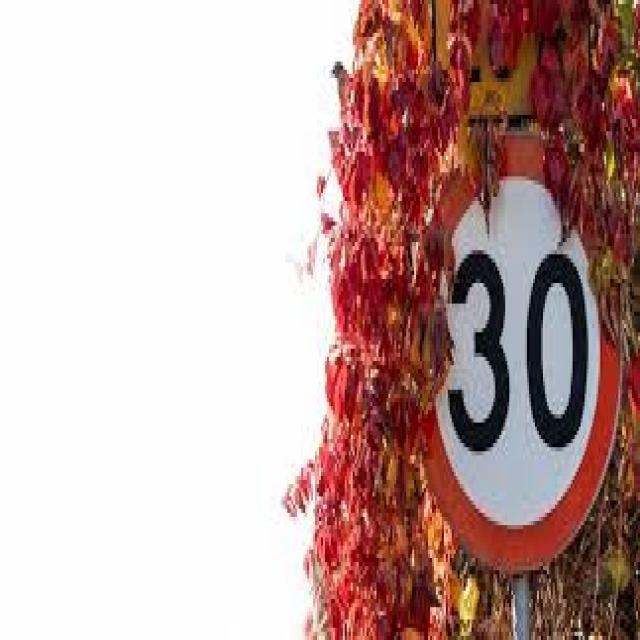Speed limit 30: (417, 133, 623, 576)
